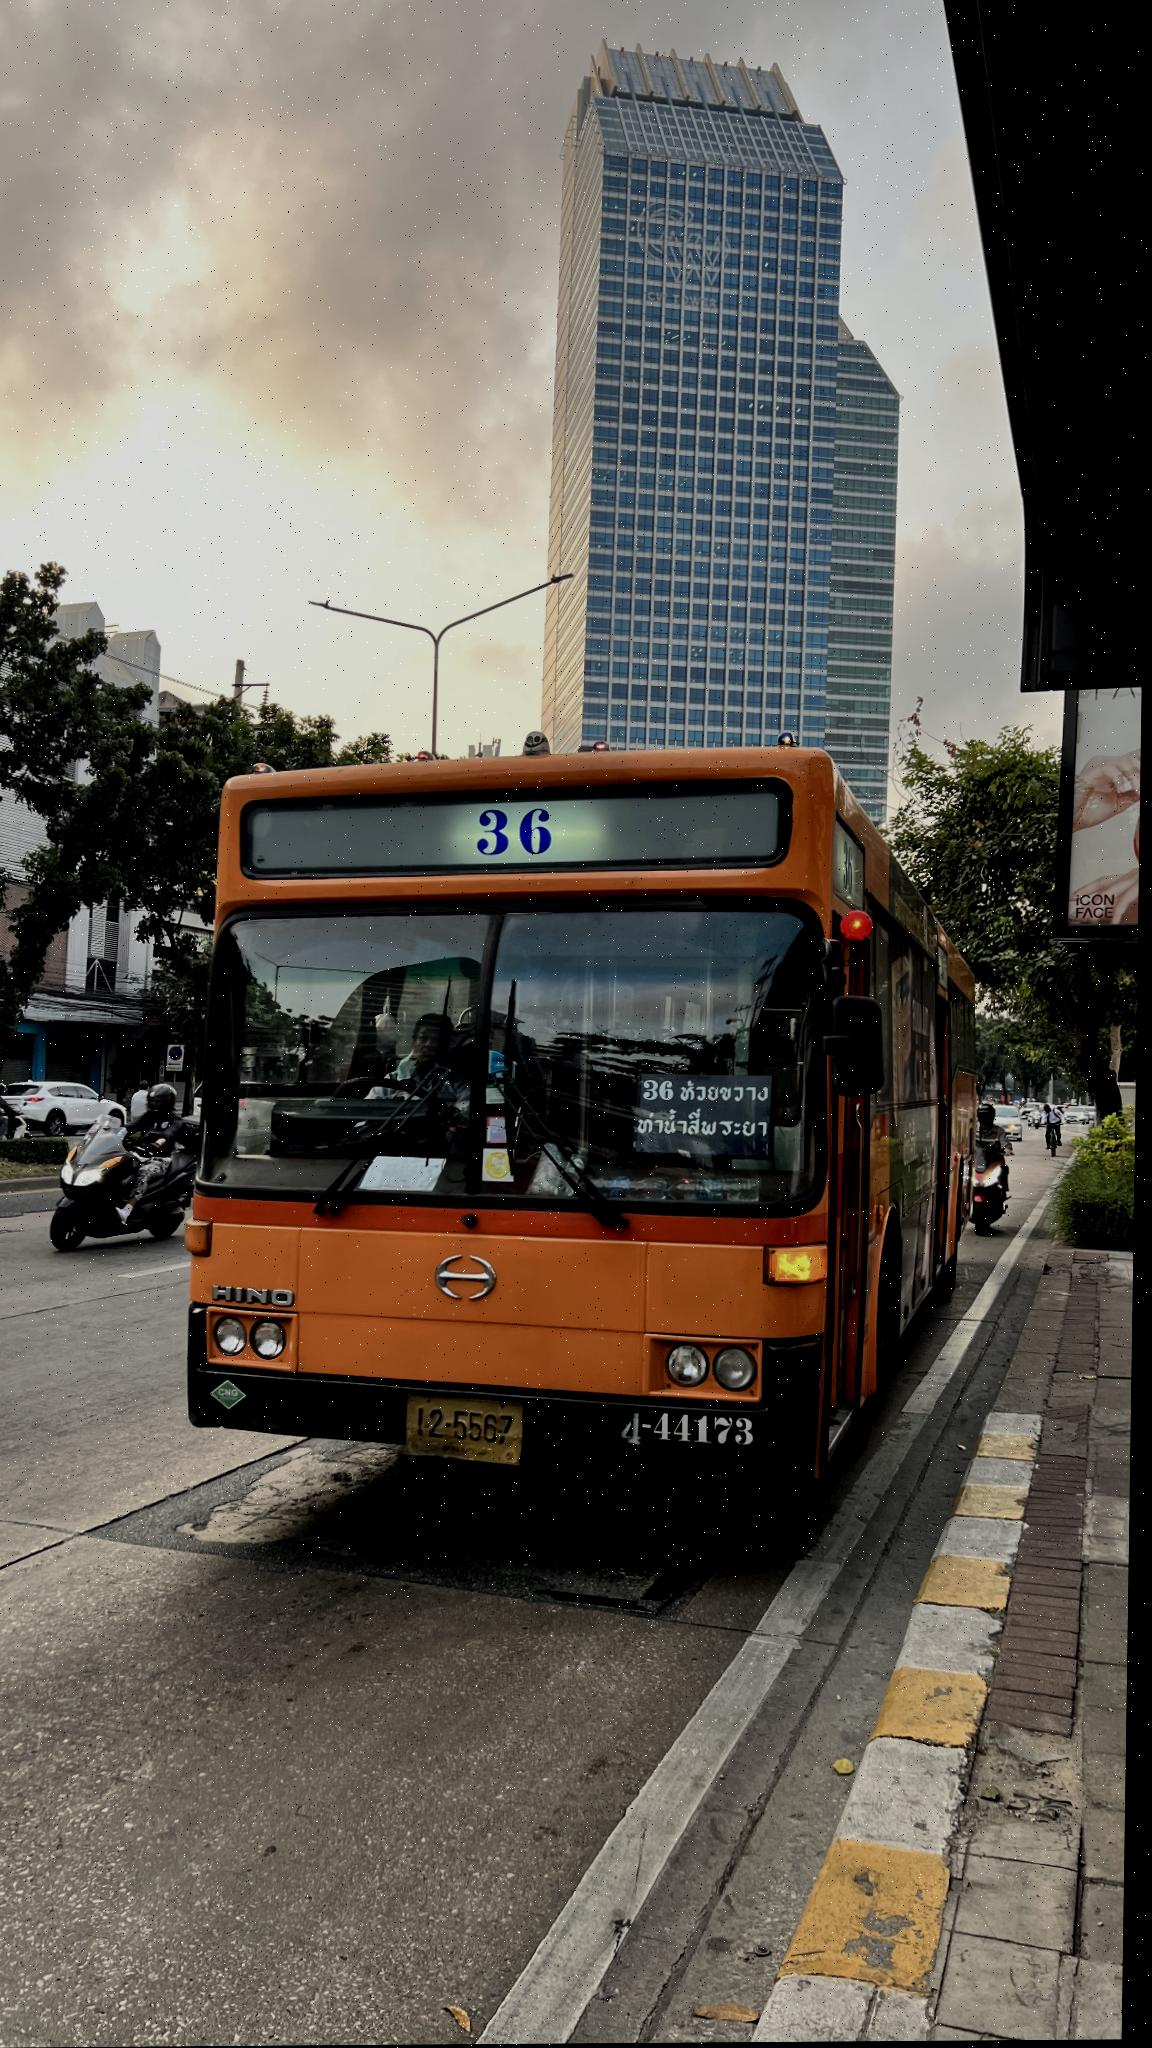BMTA-bus: (151, 723, 994, 1508)
Bus Line Number: (467, 805, 564, 864)
Bus Side Number: (610, 1400, 768, 1456)
Destination Sign: (633, 1070, 776, 1159)
